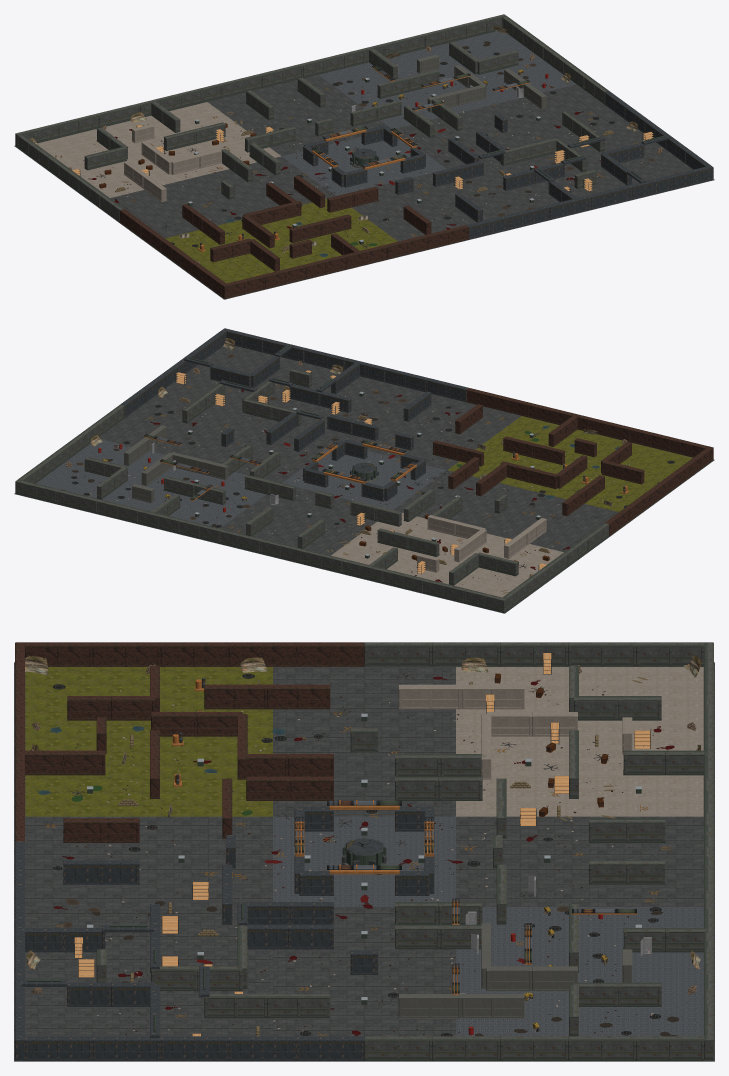
The model's file is Map0_Klasik_Labirent_5v5v5v5_v3.gltf.
The picture shows the model from 3 angles, top to bottom: view 1: azimuth 30°, elevation 25°; view 2: azimuth 150°, elevation 25°; view 3: azimuth 270°, elevation 25°; orthographic projection. The views are drawn at different scales.
Parts seen in each view (by area): view 1: Terrain_Bunker_Ground, Floor_NE_SteelGrate, Floor_NW_Armory, Floor_SE_Comms, Floor_SW_Cistern, Floor_Center_SteelGrate, Wall_Perim_S_W_013, Wall_NW_SpawnH_071, Wall_Perim_S_W_017, Wall_Perim_S_E_021, Wall_Perim_N_W_002, Wall_Perim_S_E_024 (+33 smaller); view 2: Terrain_Bunker_Ground, Floor_SE_Comms, Floor_SW_Cistern, Floor_NE_SteelGrate, Floor_NW_Armory, Floor_Center_SteelGrate, Wall_Perim_N_W_001, Wall_SW_SpawnH_113, Wall_Perim_N_W_005, Wall_Perim_N_E_009, Wall_Perim_S_W_014, Wall_Perim_N_W_004 (+34 smaller); view 3: Terrain_Bunker_Ground, Floor_SW_Cistern, Floor_NW_Armory, Floor_NE_SteelGrate, Floor_SE_Comms, Floor_Center_SteelGrate, Wall_NW_NorthVaultV_076, Wall_NE_NorthVaultV_097, Wall_SW_NorthVaultV_118, Wall_SE_NorthVaultV_139, Wall_Perim_W_N_029, Wall_Perim_W_S_030 (+75 smaller).
Part boxes in pixels (x1,y1,x2,y2): Terrain_Bunker_Ground: (14,31,714,299); Floor_NE_SteelGrate: (318,30,575,128); Floor_NW_Armory: (38,102,280,197); Floor_SE_Comms: (462,125,692,214); Floor_SW_Cistern: (165,199,397,283); Floor_Center_SteelGrate: (282,137,446,195); Wall_Perim_S_W_013: (221,275,265,298); Wall_NW_SpawnH_071: (84,146,126,170); Wall_Perim_S_W_017: (385,235,428,259); Wall_Perim_S_E_021: (548,195,591,219); Wall_Perim_N_W_002: (56,113,99,137); Wall_Perim_S_E_024: (670,165,713,189); Terrain_Bunker_Ground: (14,345,714,613); Floor_SE_Comms: (153,345,409,442); Floor_SW_Cistern: (448,416,692,511); Floor_NE_SteelGrate: (36,439,266,528); Floor_NW_Armory: (331,513,563,597); Floor_Center_SteelGrate: (282,451,446,509); Wall_Perim_N_W_001: (463,589,507,612); Wall_SW_SpawnH_113: (602,460,644,484); Wall_Perim_N_W_005: (300,549,343,573); Wall_Perim_N_E_009: (137,509,180,533); Wall_Perim_S_W_014: (629,427,672,451); Wall_Perim_N_W_004: (341,559,384,583); Terrain_Bunker_Ground: (14,662,714,1061); Floor_SW_Cistern: (25,667,272,816); Floor_NW_Armory: (456,667,703,816); Floor_NE_SteelGrate: (456,907,703,1036); Floor_SE_Comms: (25,907,272,1036); Floor_Center_SteelGrate: (273,816,455,906); Wall_NW_NorthVaultV_076: (589,818,665,842); Wall_NE_NorthVaultV_097: (589,860,665,884); Wall_SW_NorthVaultV_118: (63,818,139,842); Wall_SE_NorthVaultV_139: (63,860,139,884); Wall_Perim_W_N_029: (364,642,432,666); Wall_Perim_W_S_030: (296,642,364,666).
Bounding box in the file's own units: 124 × 4.14 × 92.
Materials: 31 (31 with a texture image).
